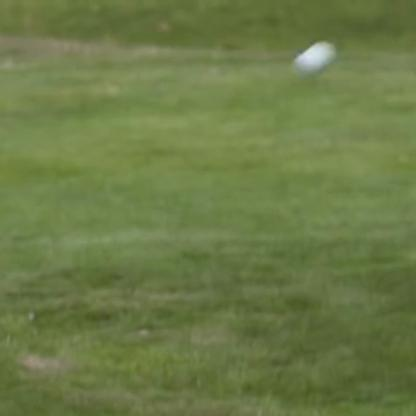golfball: (294, 42, 336, 79)
